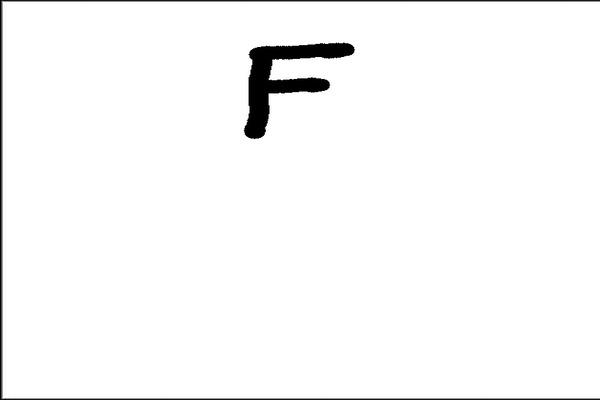F: (239, 38, 360, 143)
